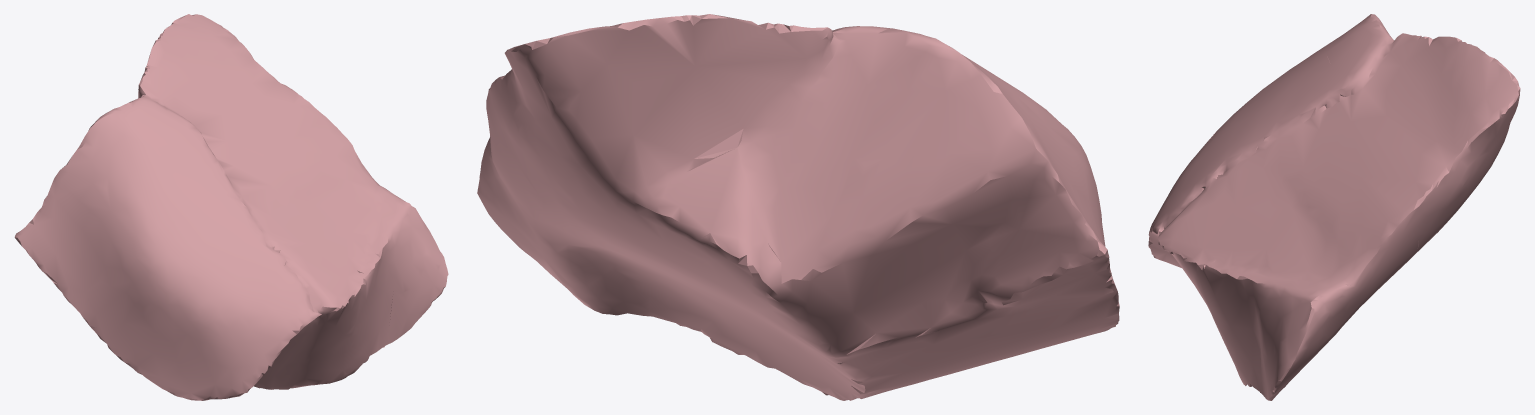
File: fma61002_mm1279m.glb
The picture shows the model from 3 angles, left to right: view 1: azimuth 30°, elevation 25°; view 2: azimuth 150°, elevation 25°; view 3: azimuth 270°, elevation 25°; orthographic projection. The views are drawn at different scales.
Visible parts, largest first — view 1: FMA61002_MM1279M; view 2: FMA61002_MM1279M; view 3: FMA61002_MM1279M.
Part boxes in pixels (x1=…): FMA61002_MM1279M: x1=14, y1=14, x2=448, y2=400; FMA61002_MM1279M: x1=477, y1=14, x2=1119, y2=400; FMA61002_MM1279M: x1=1148, y1=14, x2=1520, y2=400.
Size of the model in its own units: 0.0195 by 0.0137 by 0.0152.
